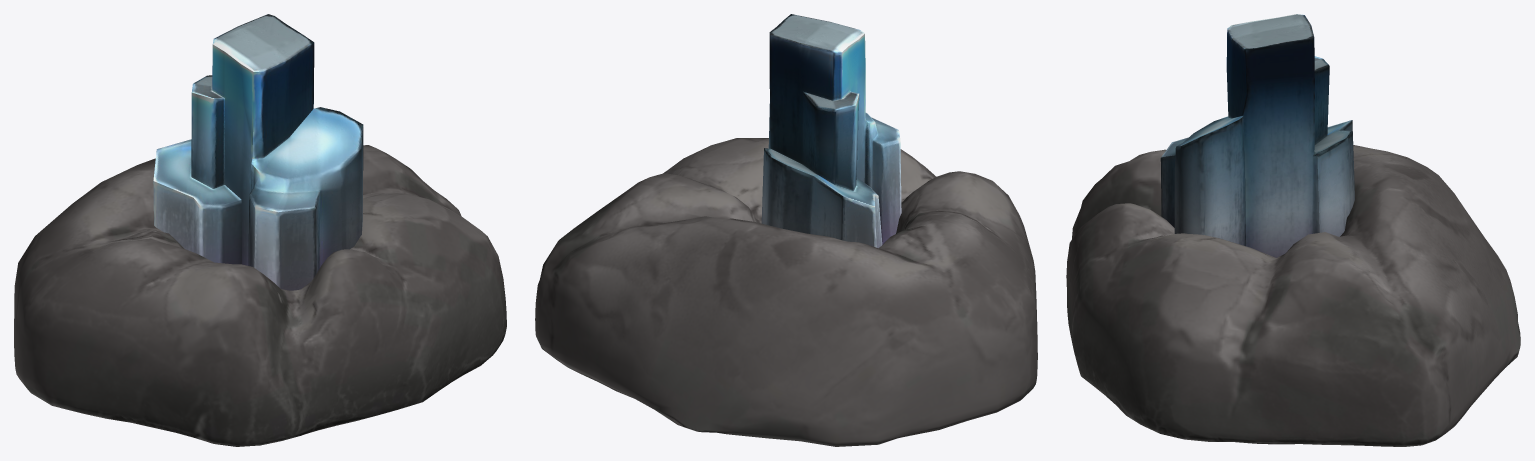
The model's file is BlueOre_deposit_low.glb.
The picture shows the model from 3 angles, left to right: view 1: azimuth 30°, elevation 25°; view 2: azimuth 150°, elevation 25°; view 3: azimuth 270°, elevation 25°; orthographic projection. The views are drawn at different scales.
Parts seen in each view (by area): view 1: BlueOre_deposit_low; view 2: BlueOre_deposit_low; view 3: BlueOre_deposit_low.
Part boxes in pixels (x1,y1,x2,y2): BlueOre_deposit_low: (14,14,506,446); BlueOre_deposit_low: (535,14,1037,446); BlueOre_deposit_low: (1066,14,1520,446).
Bounding box in the file's own units: 0.5129 × 0.3579 × 0.455.
Materials: 1 (1 with a texture image).
